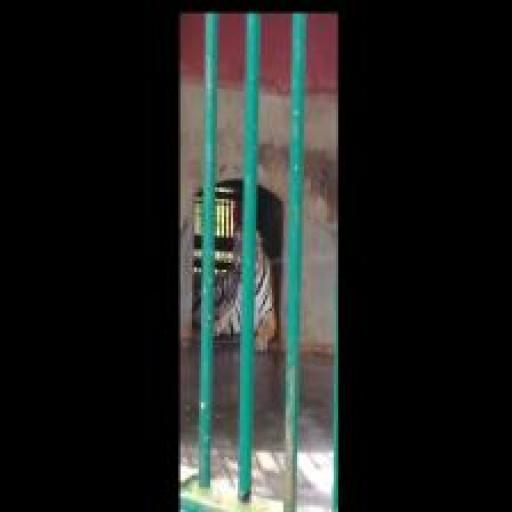Tiger: (194, 215, 281, 351)
